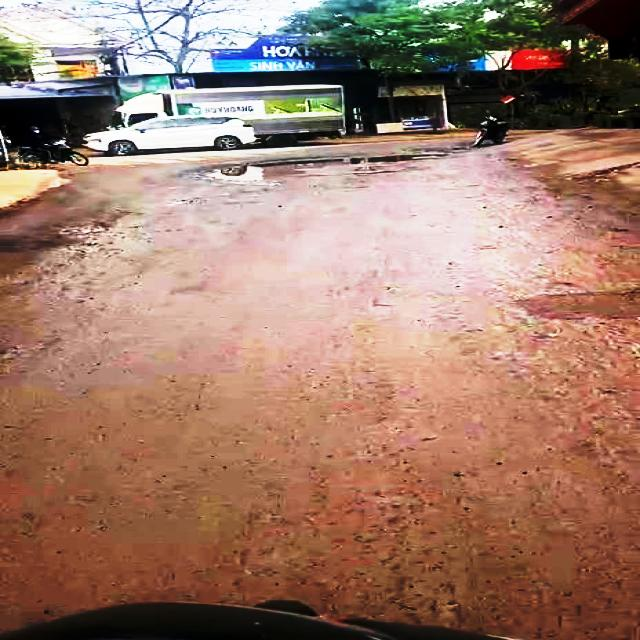pothole: (196, 150, 451, 187)
